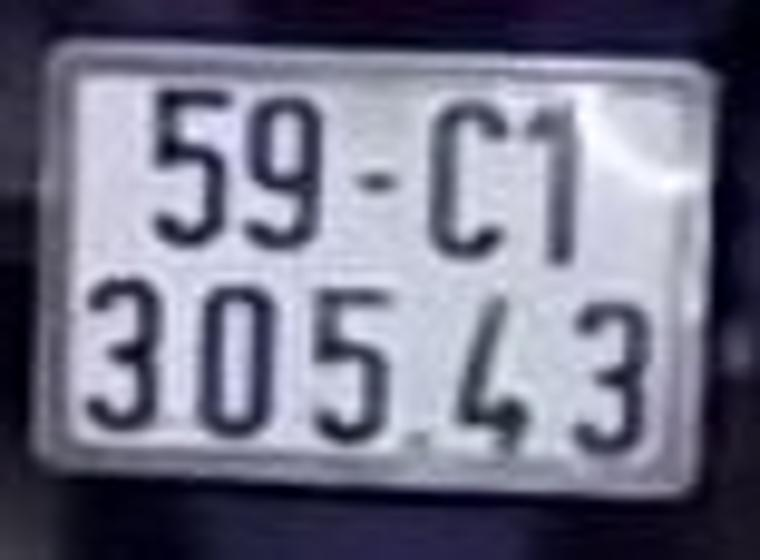-: (357, 159, 404, 199)
.: (407, 421, 434, 461)
0: (197, 279, 275, 454)
1: (526, 95, 588, 274)
3: (77, 269, 166, 438), (574, 295, 646, 462)
4: (452, 294, 541, 471)
5: (303, 277, 401, 456), (147, 82, 237, 249)
9: (241, 95, 326, 257)
C: (422, 89, 506, 272)
